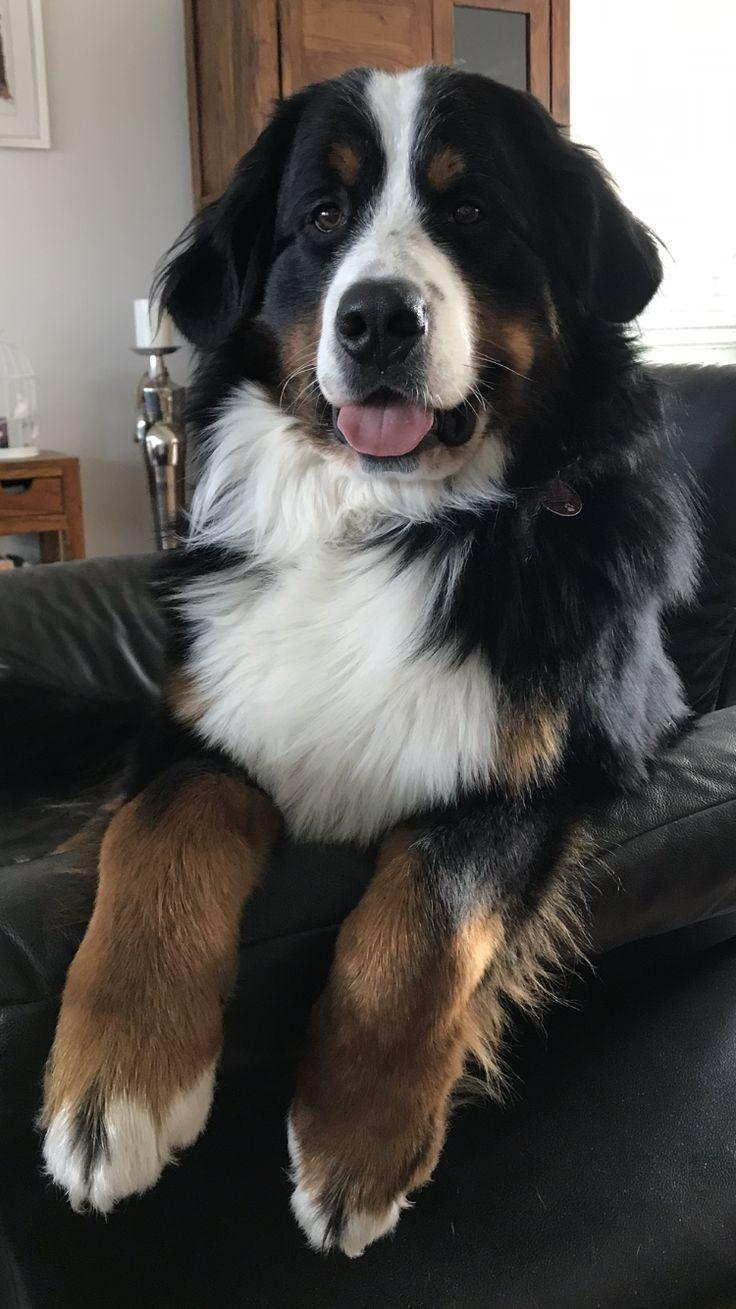adult_dog: (38, 63, 736, 1261)
